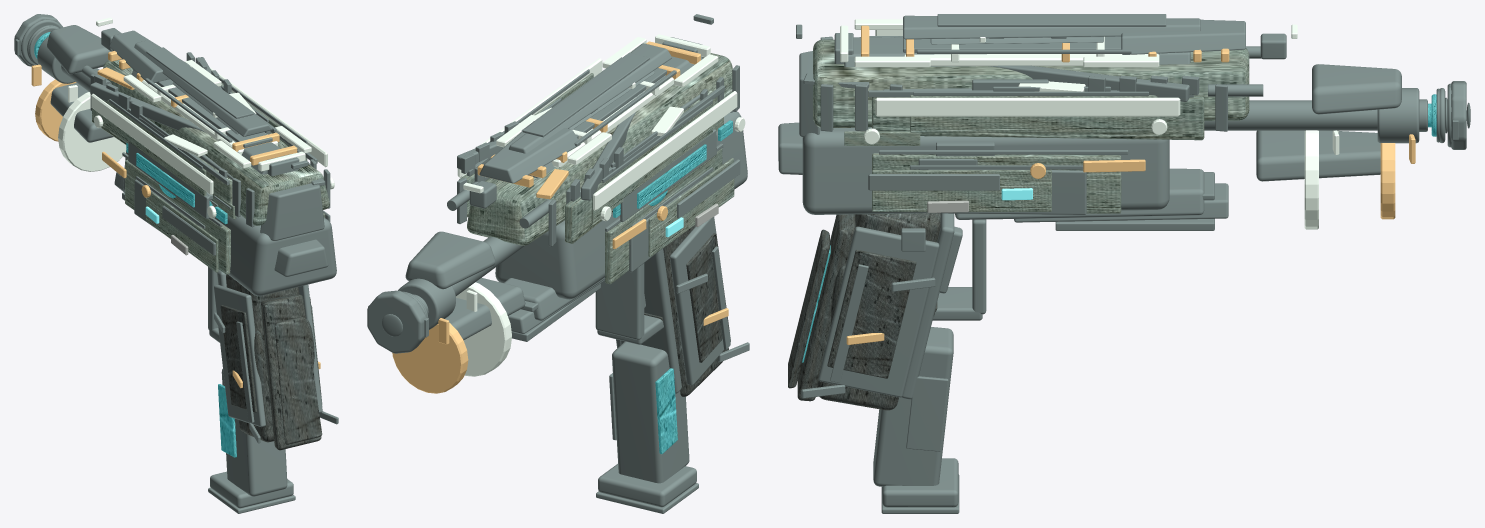
The model's file is hp_viewmodel_sidearm_wgpu_battleworn.glb.
3 views of the same model, side by side, from view 1: azimuth 30°, elevation 25°; view 2: azimuth 150°, elevation 25°; view 3: azimuth 270°, elevation 25° (orthographic). The views are drawn at different scales.
Visible parts, largest first — view 1: sidearm_barrel, sidearm_aesthetic_grip_backstrap_ergonomic_curve, sidearm_slide, sidearm_aesthetic_receiver_sculpted_side_plane_l, hp_sidearm_muzzle_collar_00, sidearm_chamber_round, hp_sidearm_raised_slide_rail_left, hp_sidearm_muzzle_collar_01, hp_sidearm_lower_oxidized_side_plate_left, hp_sidearm_raised_slide_rail_right, hp_sidearm_top_battered_spine, hp_sidearm_asymmetric_battle_scuff_00 (+4 smaller); view 2: sidearm_barrel, sidearm_slide, sidearm_aesthetic_receiver_sculpted_side_plane_l, sidearm_aesthetic_grip_backstrap_ergonomic_curve, hp_sidearm_muzzle_collar_01, sidearm_chamber_round, hp_sidearm_raised_slide_rail_left, hp_sidearm_muzzle_collar_00, hp_sidearm_lower_oxidized_side_plate_left, hp_sidearm_top_battered_spine, hp_sidearm_raised_slide_rail_right, hp_sidearm_scraped_corner_edge_00 (+3 smaller); view 3: sidearm_barrel, sidearm_aesthetic_grip_backstrap_ergonomic_curve, sidearm_aesthetic_receiver_sculpted_side_plane_l, sidearm_slide, hp_sidearm_raised_slide_rail_right, hp_sidearm_lower_oxidized_side_plate_right, hp_sidearm_top_battered_spine, hp_sidearm_muzzle_collar_00, hp_sidearm_muzzle_collar_01, hp_sidearm_scraped_corner_edge_01, hp_sidearm_scraped_corner_edge_03, hp_sidearm_protocol_audit_inset_right_02.
Part boxes in pixels (x1,y1,x2,y2): sidearm_barrel: (14, 14, 336, 513); sidearm_aesthetic_grip_backstrap_ergonomic_curve: (220, 274, 322, 450); sidearm_slide: (92, 59, 329, 225); sidearm_aesthetic_receiver_sculpted_side_plane_l: (104, 84, 325, 274); hp_sidearm_muzzle_collar_00: (58, 92, 126, 171); sidearm_chamber_round: (34, 32, 236, 457); hp_sidearm_raised_slide_rail_left: (91, 93, 213, 194); hp_sidearm_muzzle_collar_01: (35, 79, 76, 141); hp_sidearm_lower_oxidized_side_plate_left: (162, 205, 215, 255); hp_sidearm_raised_slide_rail_right: (209, 67, 327, 167); hp_sidearm_top_battered_spine: (142, 80, 277, 154); hp_sidearm_asymmetric_battle_scuff_00: (164, 134, 207, 156); sidearm_barrel: (367, 37, 747, 513); sidearm_slide: (458, 53, 732, 245); sidearm_aesthetic_receiver_sculpted_side_plane_l: (534, 73, 734, 284); sidearm_aesthetic_grip_backstrap_ergonomic_curve: (644, 225, 729, 396); hp_sidearm_muzzle_collar_01: (392, 323, 468, 393); sidearm_chamber_round: (613, 120, 732, 454); hp_sidearm_raised_slide_rail_left: (593, 91, 737, 210); hp_sidearm_muzzle_collar_00: (456, 282, 511, 376); hp_sidearm_lower_oxidized_side_plate_left: (677, 159, 740, 218); hp_sidearm_top_battered_spine: (552, 77, 674, 167); hp_sidearm_raised_slide_rail_right: (457, 58, 602, 177); hp_sidearm_scraped_corner_edge_00: (674, 54, 718, 87); sidearm_barrel: (778, 14, 1470, 513); sidearm_aesthetic_grip_backstrap_ergonomic_curve: (788, 213, 940, 410); sidearm_aesthetic_receiver_sculpted_side_plane_l: (844, 95, 1166, 213); sidearm_slide: (813, 39, 1249, 140); hp_sidearm_raised_slide_rail_right: (875, 97, 1180, 116); hp_sidearm_lower_oxidized_side_plate_right: (868, 174, 999, 190); hp_sidearm_top_battered_spine: (904, 53, 1159, 65); hp_sidearm_muzzle_collar_00: (1304, 130, 1318, 229); hp_sidearm_muzzle_collar_01: (1380, 143, 1395, 219); hp_sidearm_scraped_corner_edge_01: (854, 56, 930, 67); hp_sidearm_scraped_corner_edge_03: (1083, 56, 1159, 67); hp_sidearm_protocol_audit_inset_right_02: (1083, 159, 1145, 172).
Bounding box in the file's own units: 0.5387 × 1.52 × 2.
Materials: 10 (4 with a texture image).
